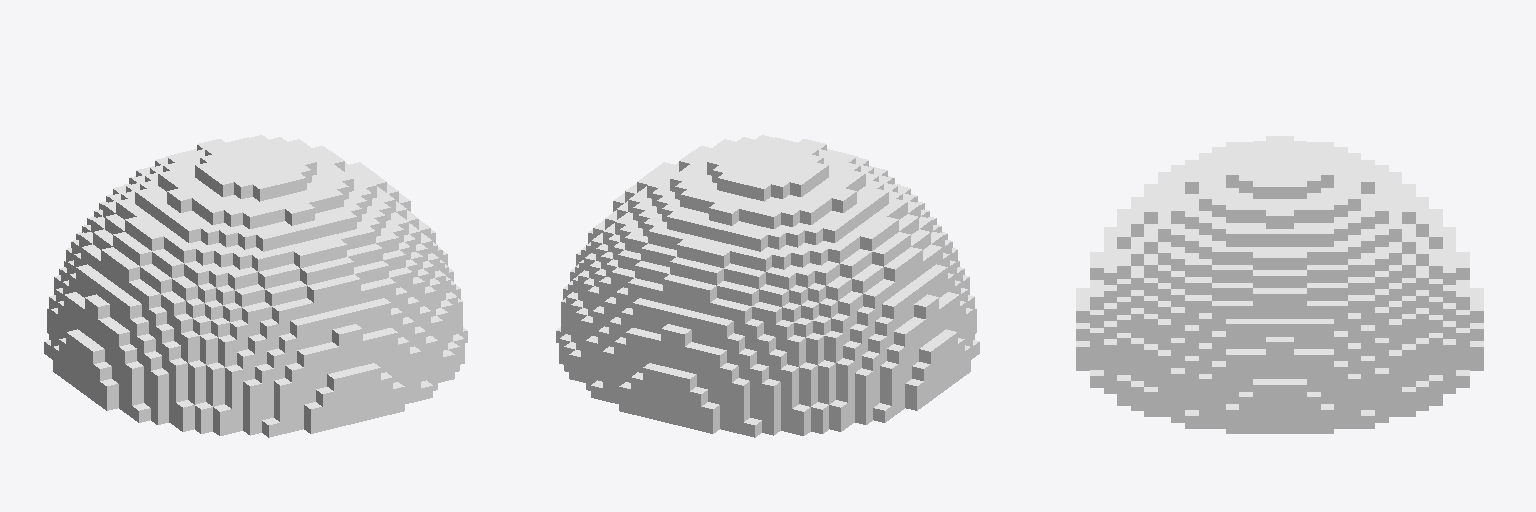
File: factory4.2-10.obj
The picture shows the model from 3 angles: view 1: azimuth 30°, elevation 25°; view 2: azimuth 150°, elevation 25°; view 3: azimuth 270°, elevation 25°; orthographic projection.
Parts seen in each view (by area): view 1: object 1; view 2: object 1; view 3: object 1.
Part boxes in pixels (x1,y1,x2,y2): object 1: (44,135,467,437); object 1: (556,135,979,437); object 1: (1076,136,1483,433).
Size of the model in its own units: 3 by 1.5 by 3.